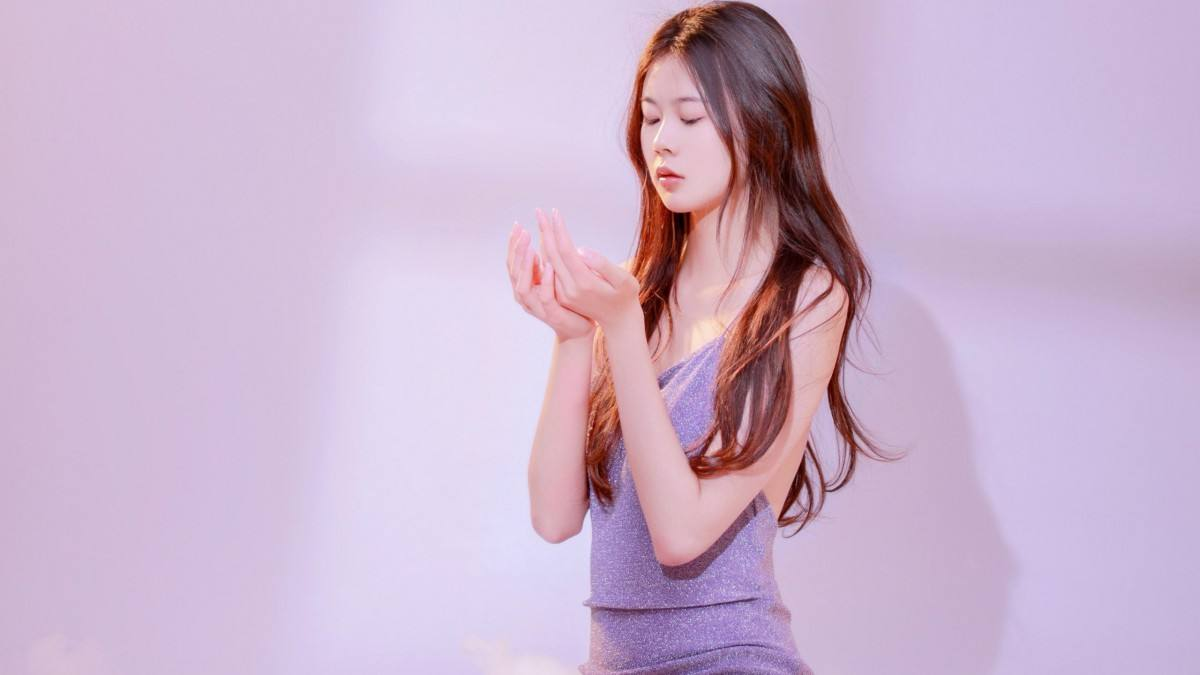person: (479, 42, 940, 584)
